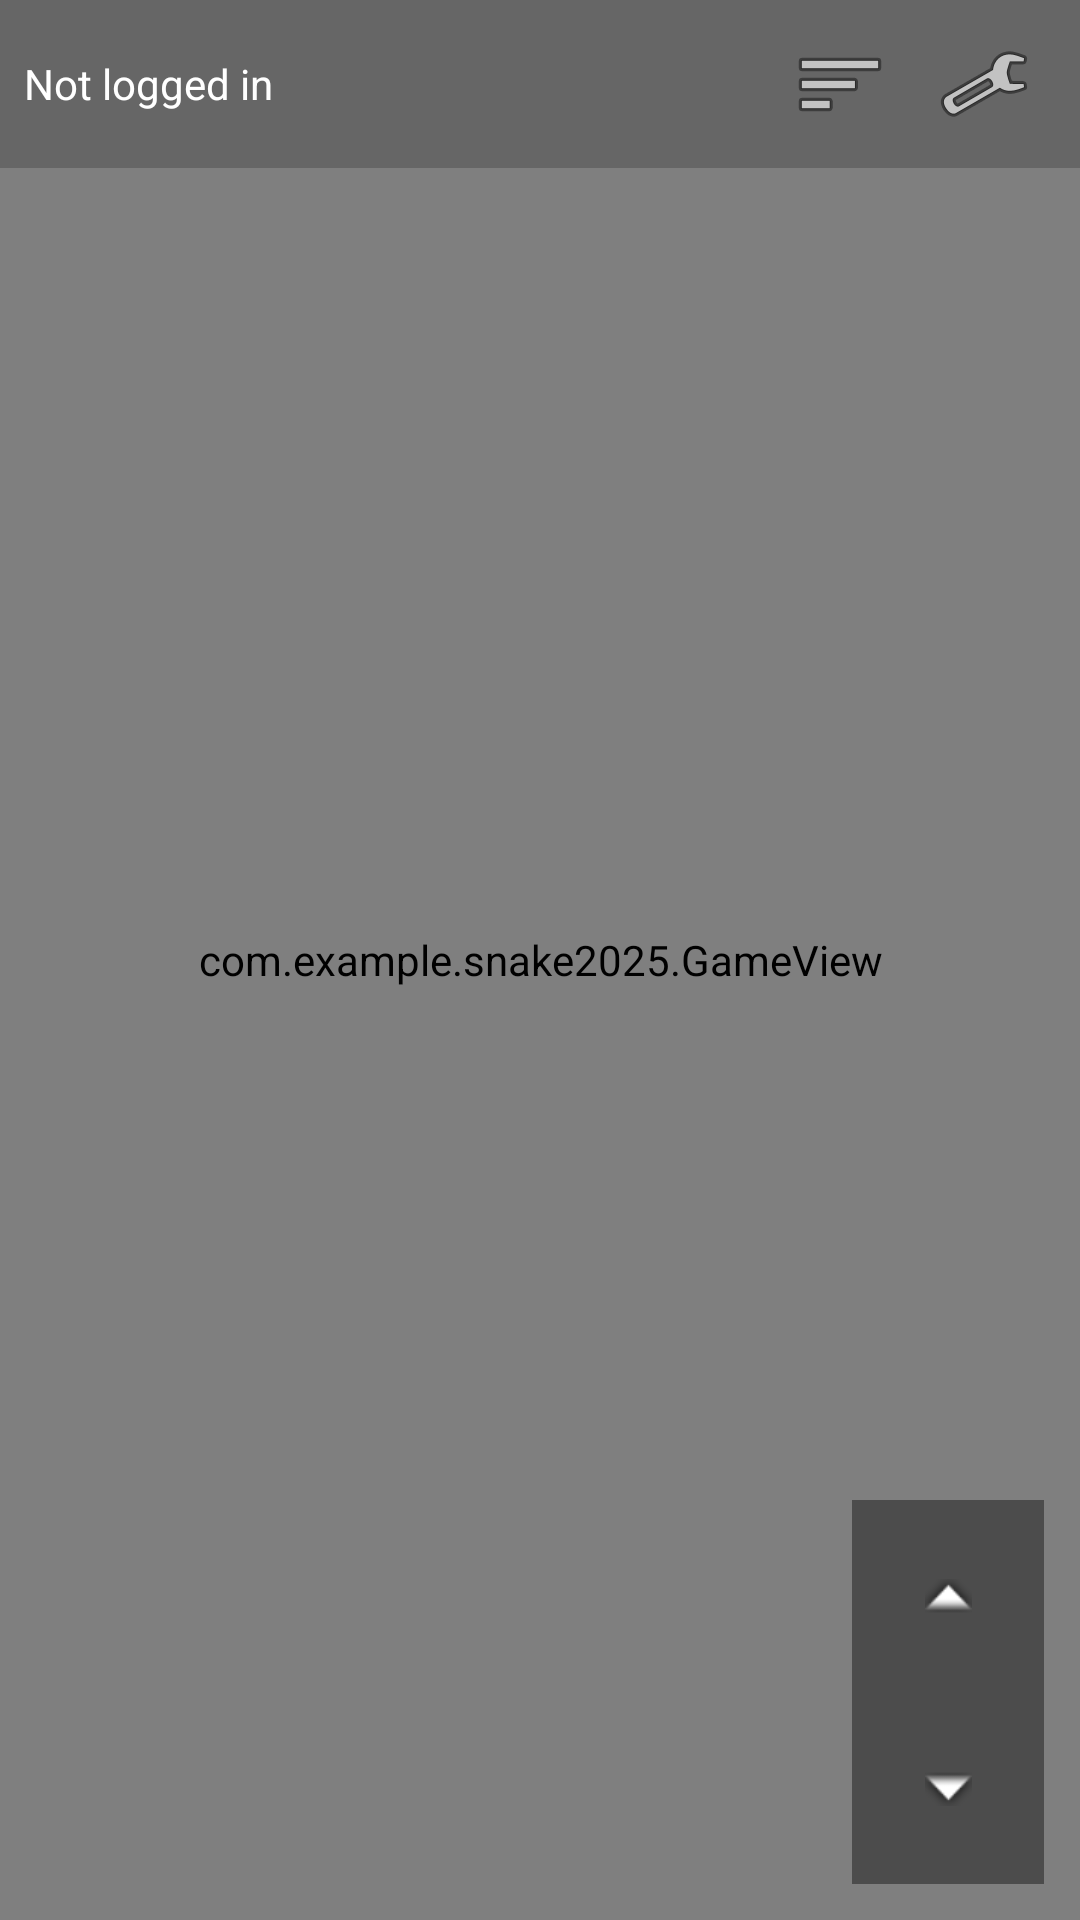

Named icons in this screenshot (1080×1920) and their bounding boxes, BBox(x1, y1, x2, y2):
arrow down float: BBox(852, 1692, 1044, 1884)
arrow up float: BBox(852, 1500, 1044, 1692)
manage: BBox(941, 51, 1027, 117)
sort by size: BBox(799, 58, 881, 111)
